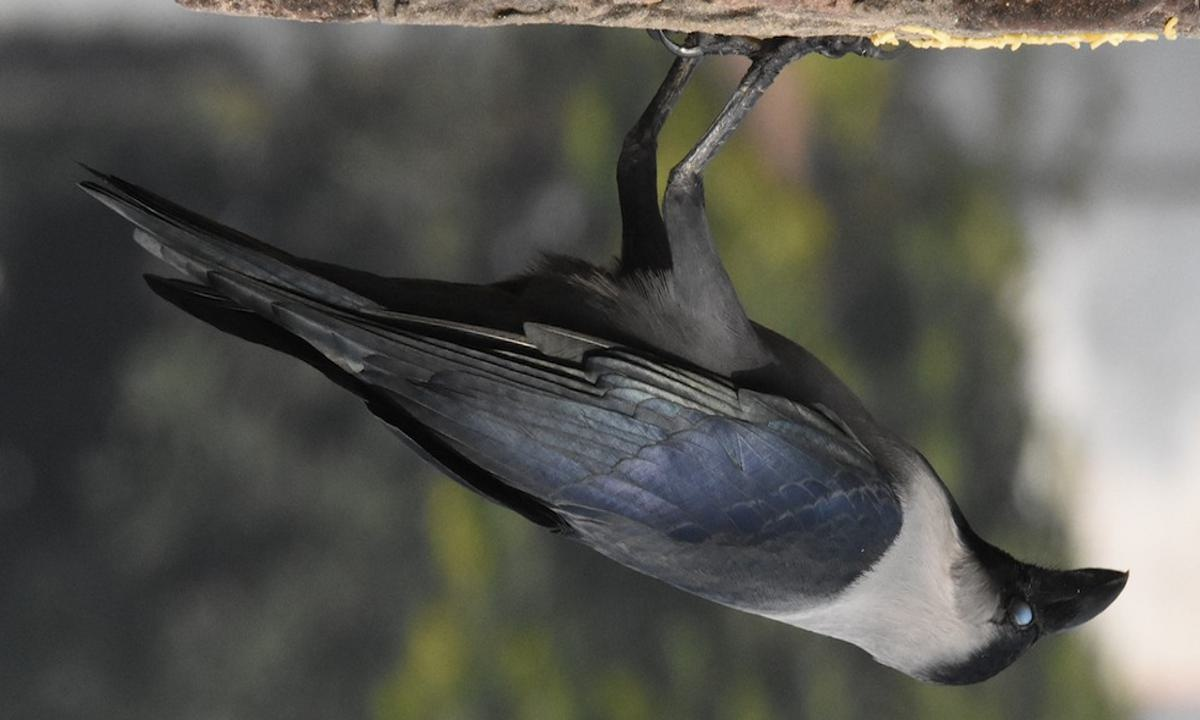crow: (81, 31, 1134, 700)
